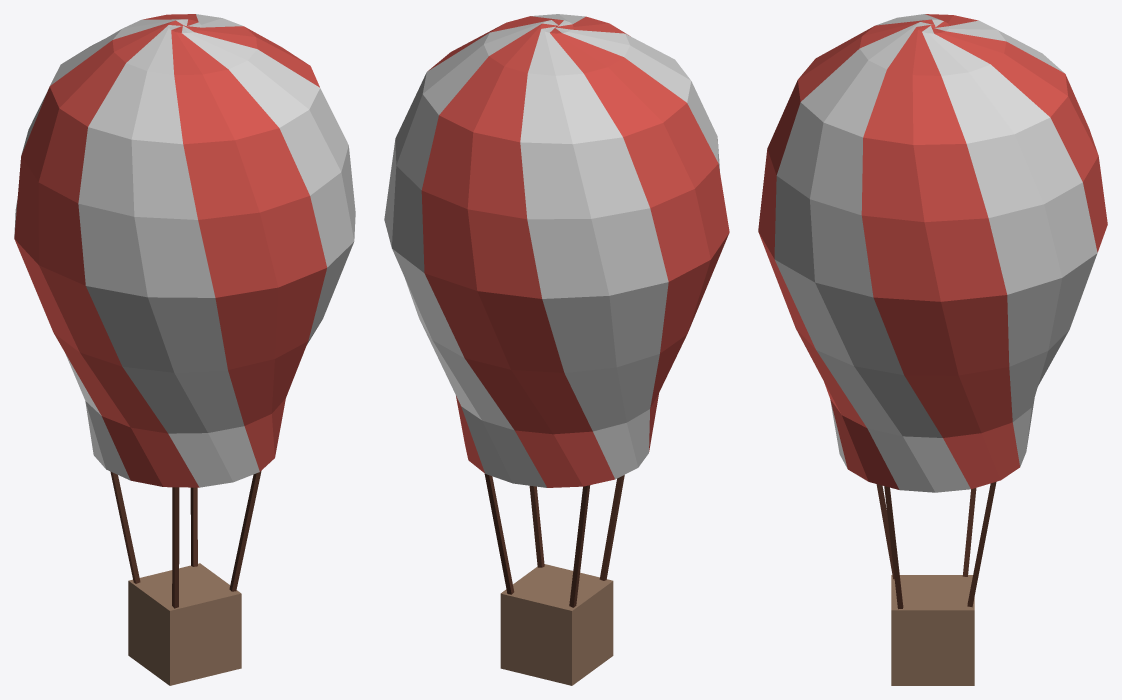
File: balloon.fbx
3 views of the same model, side by side, from view 1: azimuth 30°, elevation 25°; view 2: azimuth 150°, elevation 25°; view 3: azimuth 270°, elevation 25° (orthographic).
Visible parts, largest first — view 1: Sphere, Cube, Sphere.001; view 2: Sphere, Cube, Sphere.001; view 3: Sphere, Cube, Sphere.001.
Part boxes in pixels (box(x1,y1,x2,y2)): Sphere: box(14, 14, 355, 487); Cube: box(128, 563, 241, 685); Sphere.001: box(110, 471, 261, 608); Sphere: box(384, 14, 729, 487); Cube: box(500, 564, 613, 685); Sphere.001: box(484, 474, 624, 607); Sphere: box(758, 14, 1107, 492); Cube: box(891, 575, 974, 685); Sphere.001: box(876, 481, 996, 609).
Bounding box in the file's own units: 181 × 367 × 181.
